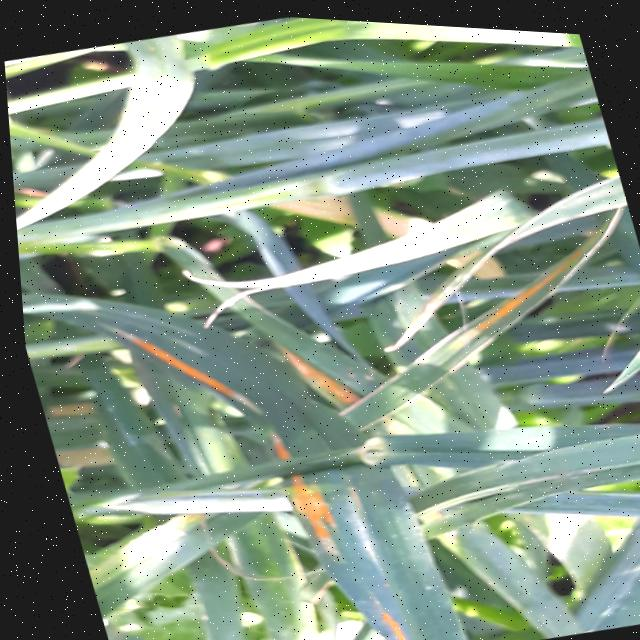yellow_rust: (419, 219, 640, 361), (115, 299, 258, 446), (247, 413, 350, 568), (255, 318, 364, 417), (333, 562, 419, 640)
